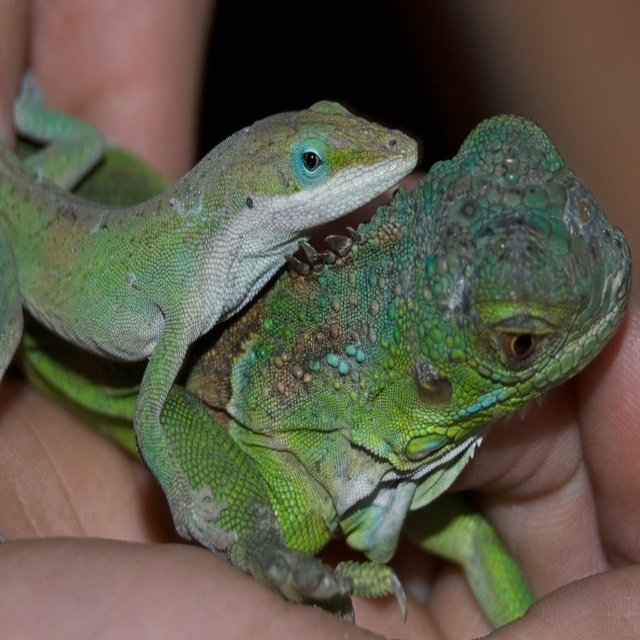Lizard: (5, 104, 420, 556)
